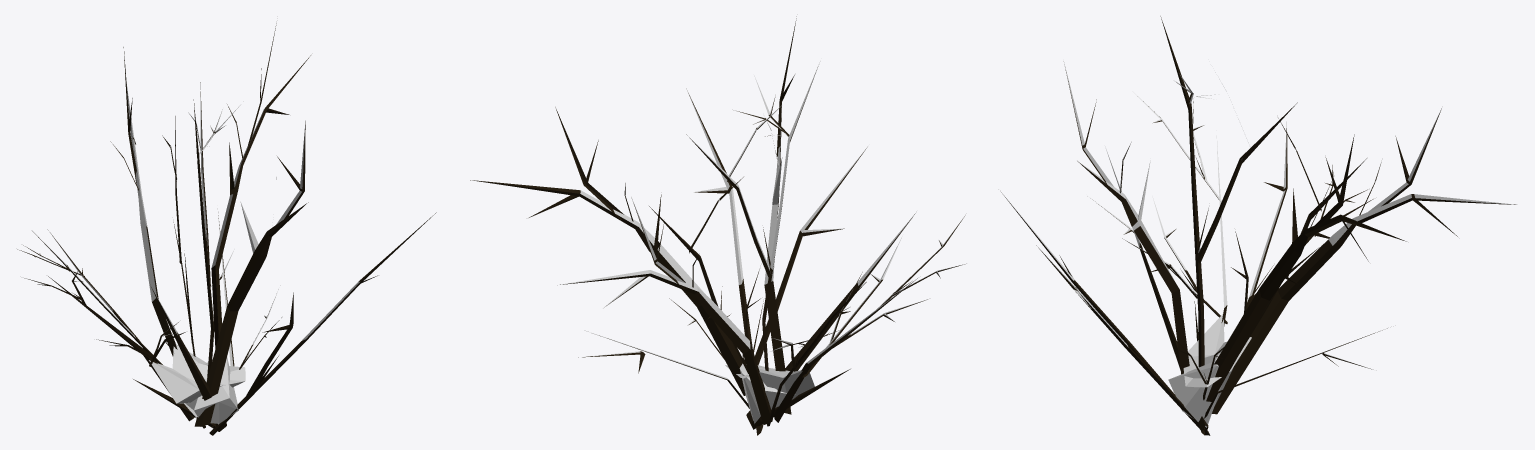
File: stickbush_with_snow.fbx
3 renders of one model, left to right at view 1: azimuth 30°, elevation 25°; view 2: azimuth 150°, elevation 25°; view 3: azimuth 270°, elevation 25°, orthographic. The views are drawn at different scales.
Visible parts, largest first — view 1: stick bush with snow clump; view 2: stick bush with snow clump; view 3: stick bush with snow clump.
Boxes of the visible parts, x1,y1,x2,y2 form: stick bush with snow clump: (17, 23, 436, 435); stick bush with snow clump: (470, 16, 966, 435); stick bush with snow clump: (1000, 16, 1517, 435).
Bounding box in the file's own units: 286 × 253 × 299.
